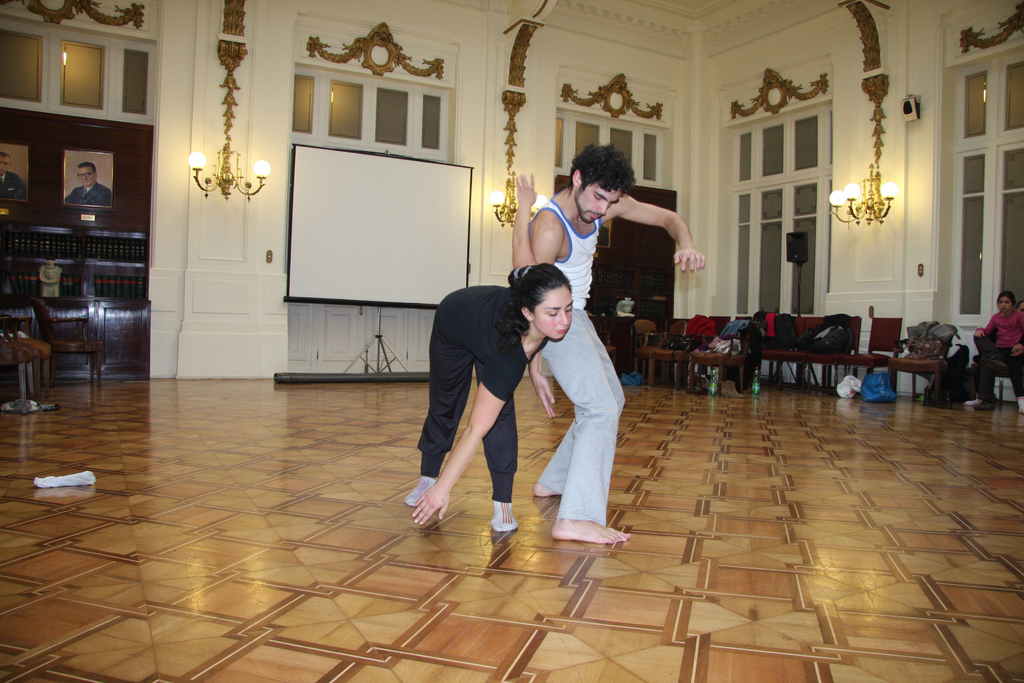Person: (0, 142, 1023, 543)
